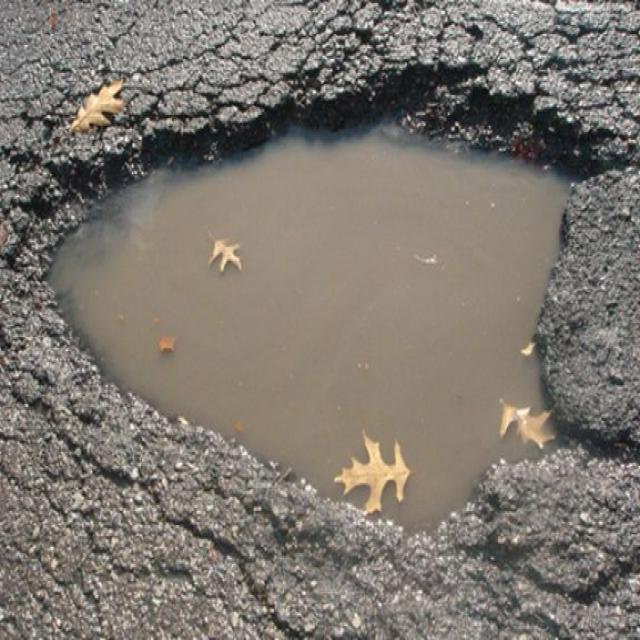Pothole: (17, 48, 617, 536)
